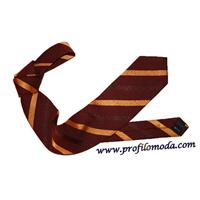tie: (13, 43, 187, 156)
